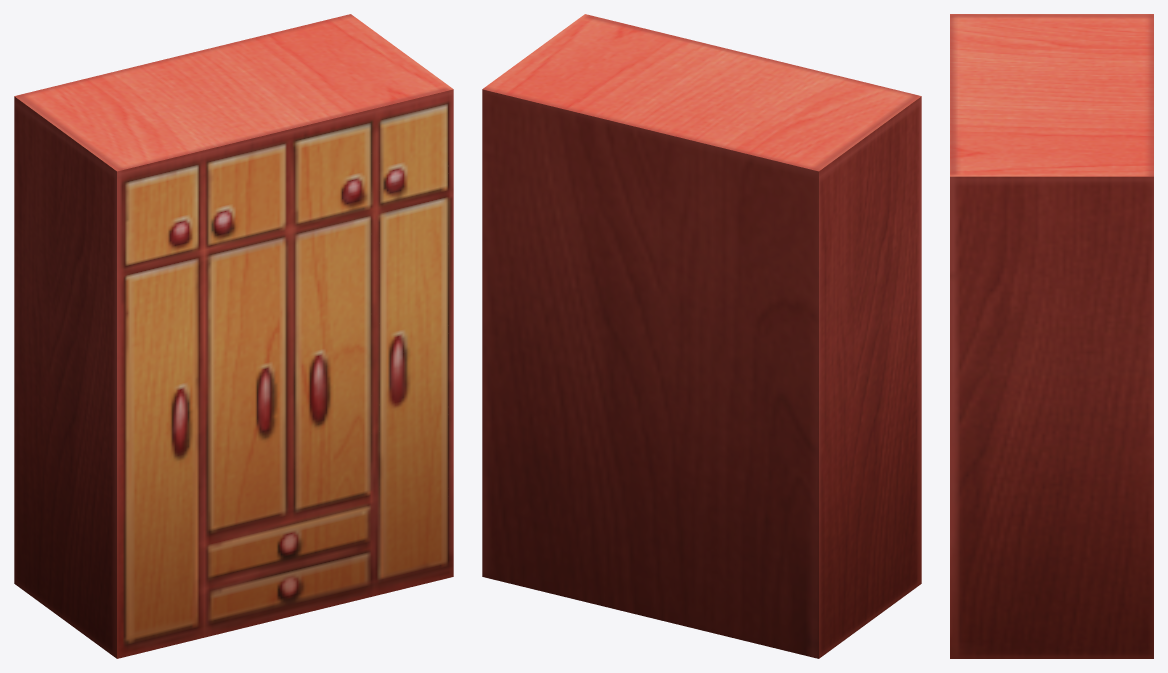
File: chest_2.DAE
3 renders of one model, left to right at view 1: azimuth 30°, elevation 25°; view 2: azimuth 150°, elevation 25°; view 3: azimuth 270°, elevation 25°, orthographic.
Parts seen in each view (by area): view 1: chest_2; view 2: chest_2; view 3: chest_2.
Boxes of the visible parts, x1,y1,x2,y2 form: chest_2: (14, 14, 453, 658); chest_2: (482, 14, 921, 658); chest_2: (950, 14, 1153, 658).
Bounding box in the file's own units: 239 × 330 × 126.
